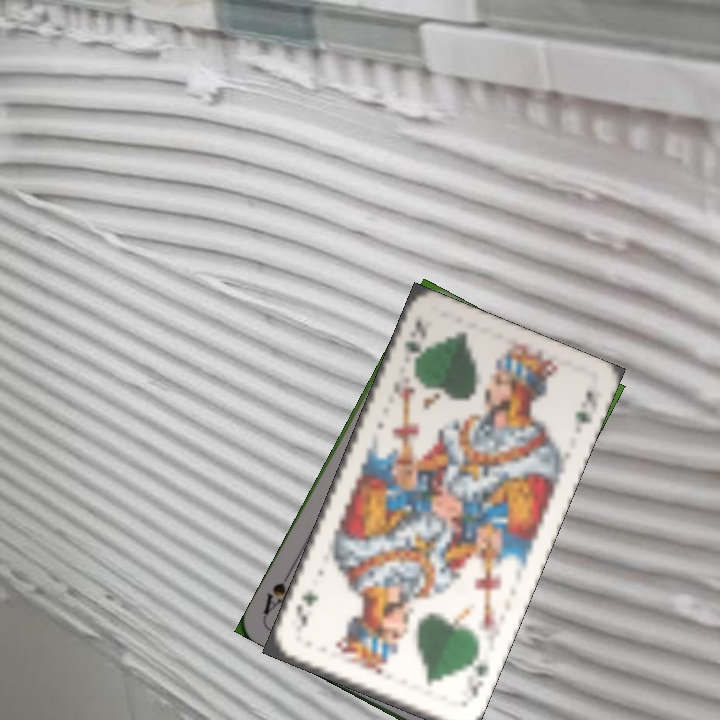GK: (462, 649, 492, 706), (399, 316, 429, 372)
